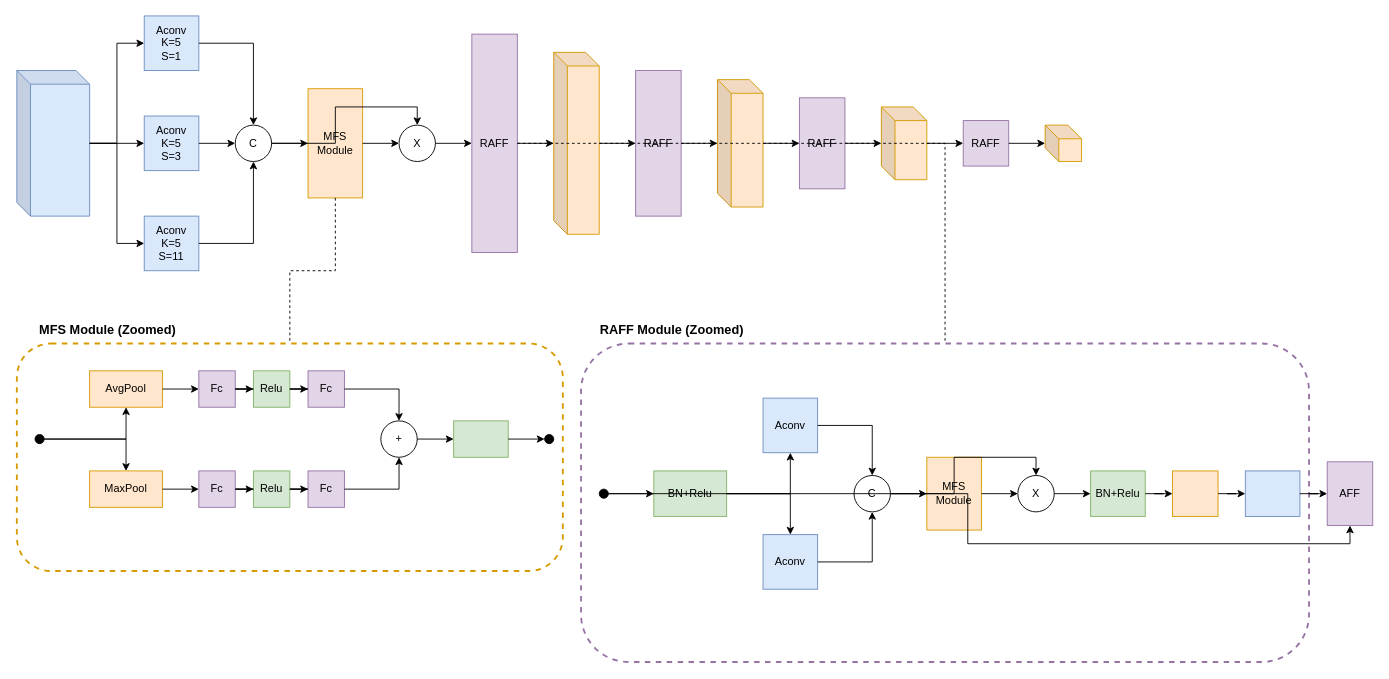
Image size: 1389x679. Some labels were removed from this diagram. Here are the shapes that lost their labels. From the top down, the centre of each, then its label:
At point (53, 143): "IQ Signal 2048x2".
At point (576, 142): "F1: L/2 x C1".
At point (740, 143): "F2: L/4 x C2".
At point (903, 143): "F3: L/8 x C3".
At point (1063, 143): "F4: L/16 x C4".
At point (480, 438): "Sigmoid".
At point (1195, 493): "ECA".
At point (1272, 493): "Conv1D".
